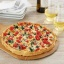pizza: (4, 22, 54, 55)
